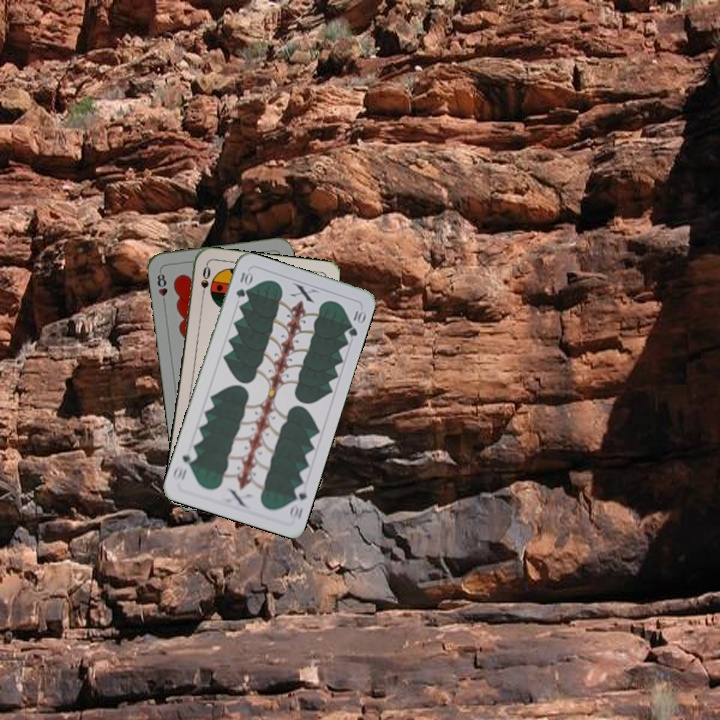G10: (286, 481, 310, 522), (232, 268, 254, 300)
H8: (153, 267, 170, 307)
SO: (196, 261, 213, 302)
